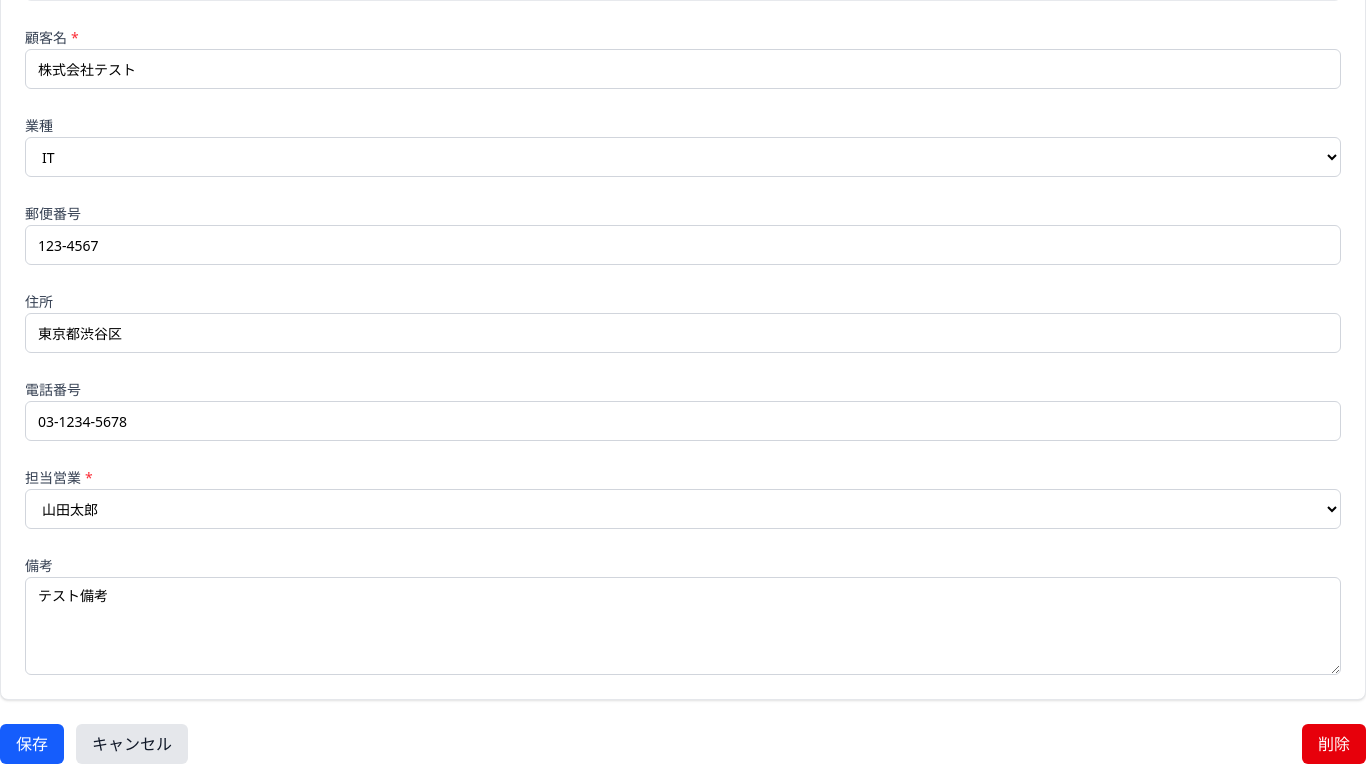
it: CustomerForm › 編集モード › 削除確認ダイアログでキャンセルできる
(page scrolled)
Step 1. Click the button "削除" → (1334, 744), box [1302,724,1365,763]
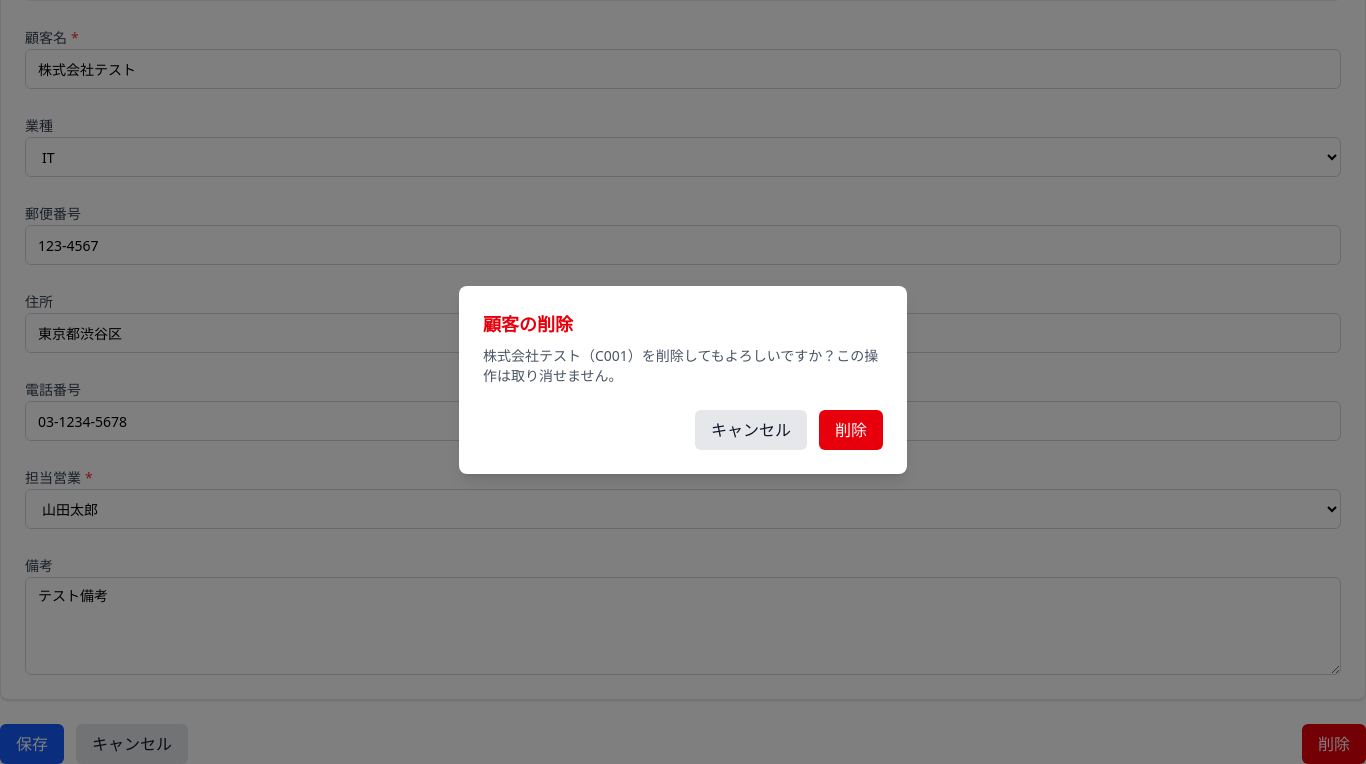
Now the heading "顧客の削除" is shown, box [483,312,573,336]
Step 2. Click the button "キャンセル" → (751, 430), box [695,410,807,450]
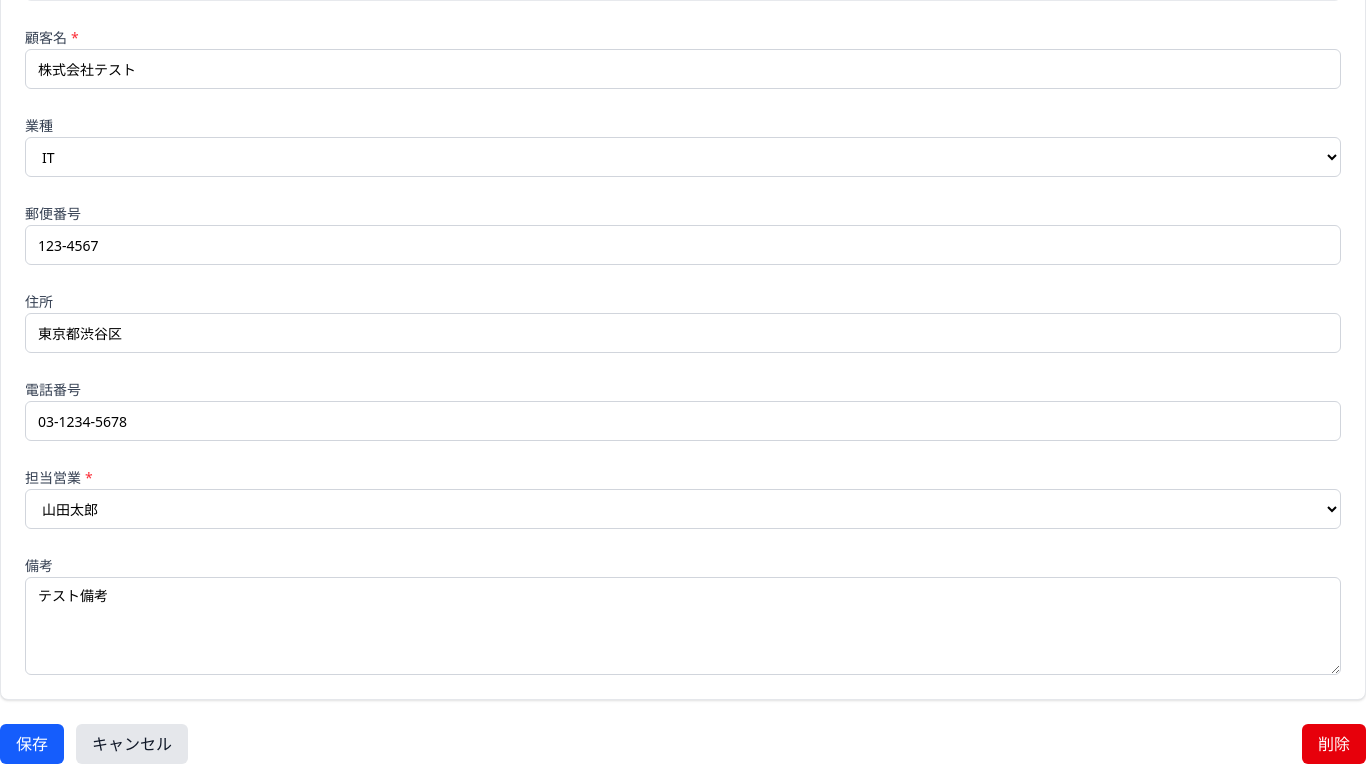
Now the heading "顧客の削除" is gone
